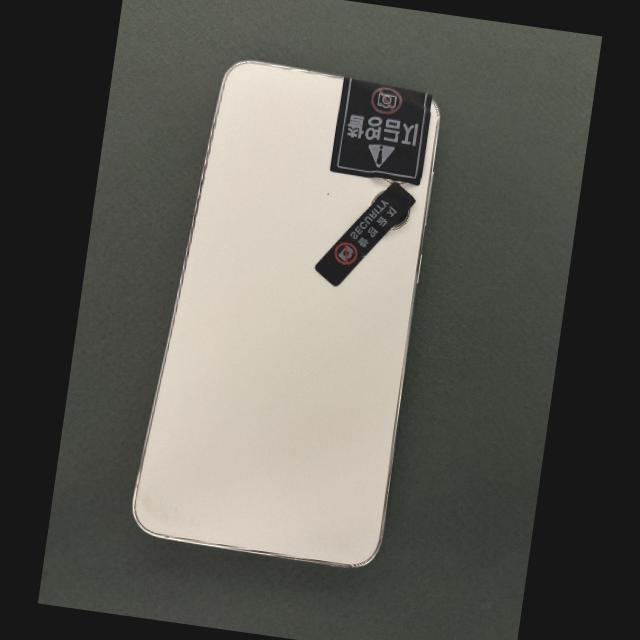lens: (396, 209, 408, 229)
phone: (133, 61, 440, 566)
sticker: (329, 76, 430, 187), (314, 183, 415, 287)
